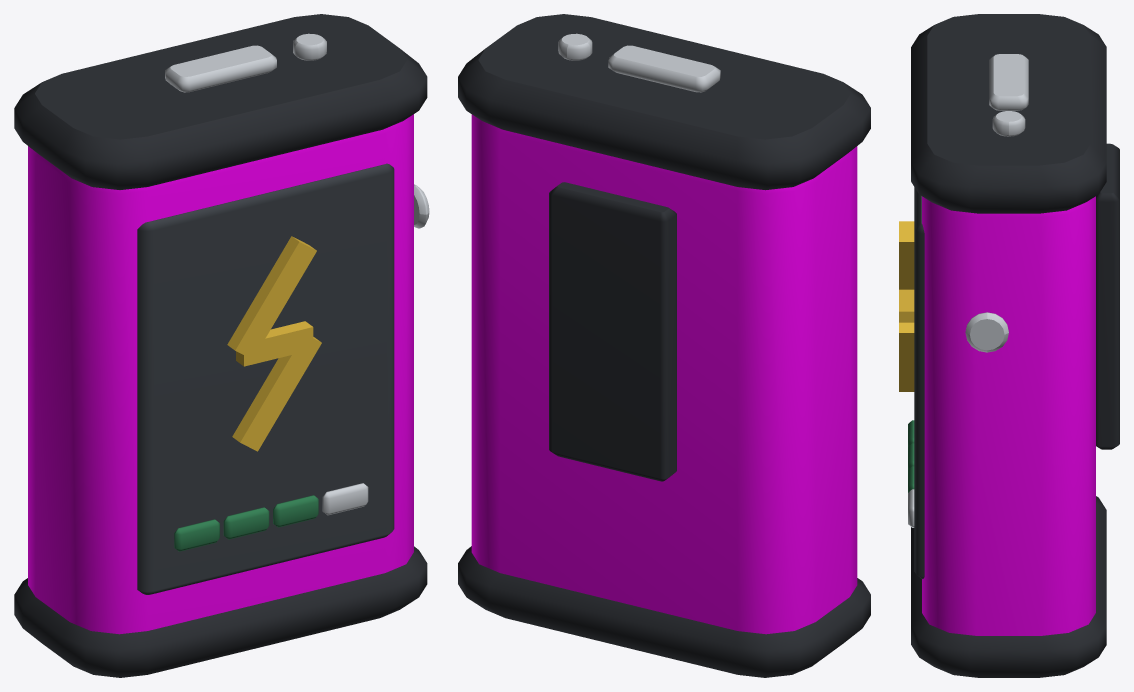
Rendered from objet_batterie_portable.glb.
3 views of the same model, side by side, from view 1: azimuth 30°, elevation 25°; view 2: azimuth 150°, elevation 25°; view 3: azimuth 270°, elevation 25° (orthographic). The views are drawn at different scales.
Parts seen in each view (by area): view 1: batterie_teinte_sombre.002, batterie_teinte.002, batterie_composant.002, batterie_jaune.002, batterie_composant_clair.002, batterie_pcb_vert.002; view 2: batterie_teinte.002, batterie_composant.002, batterie_composant_clair.002; view 3: batterie_teinte.002, batterie_composant.002, batterie_composant_clair.002, batterie_teinte_sombre.002, batterie_jaune.002, batterie_pcb_vert.002.
Part boxes in pixels (box(x1,y1,x2,y2)): batterie_teinte_sombre.002: box(137, 163, 394, 594); batterie_teinte.002: box(28, 114, 413, 634); batterie_composant.002: box(14, 14, 427, 677); batterie_jaune.002: box(227, 236, 321, 451); batterie_composant_clair.002: box(165, 33, 429, 515); batterie_pcb_vert.002: box(174, 495, 318, 551); batterie_teinte.002: box(471, 114, 857, 634); batterie_composant.002: box(458, 14, 870, 677); batterie_composant_clair.002: box(558, 33, 720, 92); batterie_teinte.002: box(922, 196, 1095, 635); batterie_composant.002: box(911, 14, 1119, 677); batterie_composant_clair.002: box(908, 54, 1028, 527); batterie_teinte_sombre.002: box(914, 187, 924, 578); batterie_jaune.002: box(899, 221, 914, 391); batterie_pcb_vert.002: box(908, 420, 914, 492).
Size of the model in its own units: 0.185 by 0.2675 by 0.1015.
